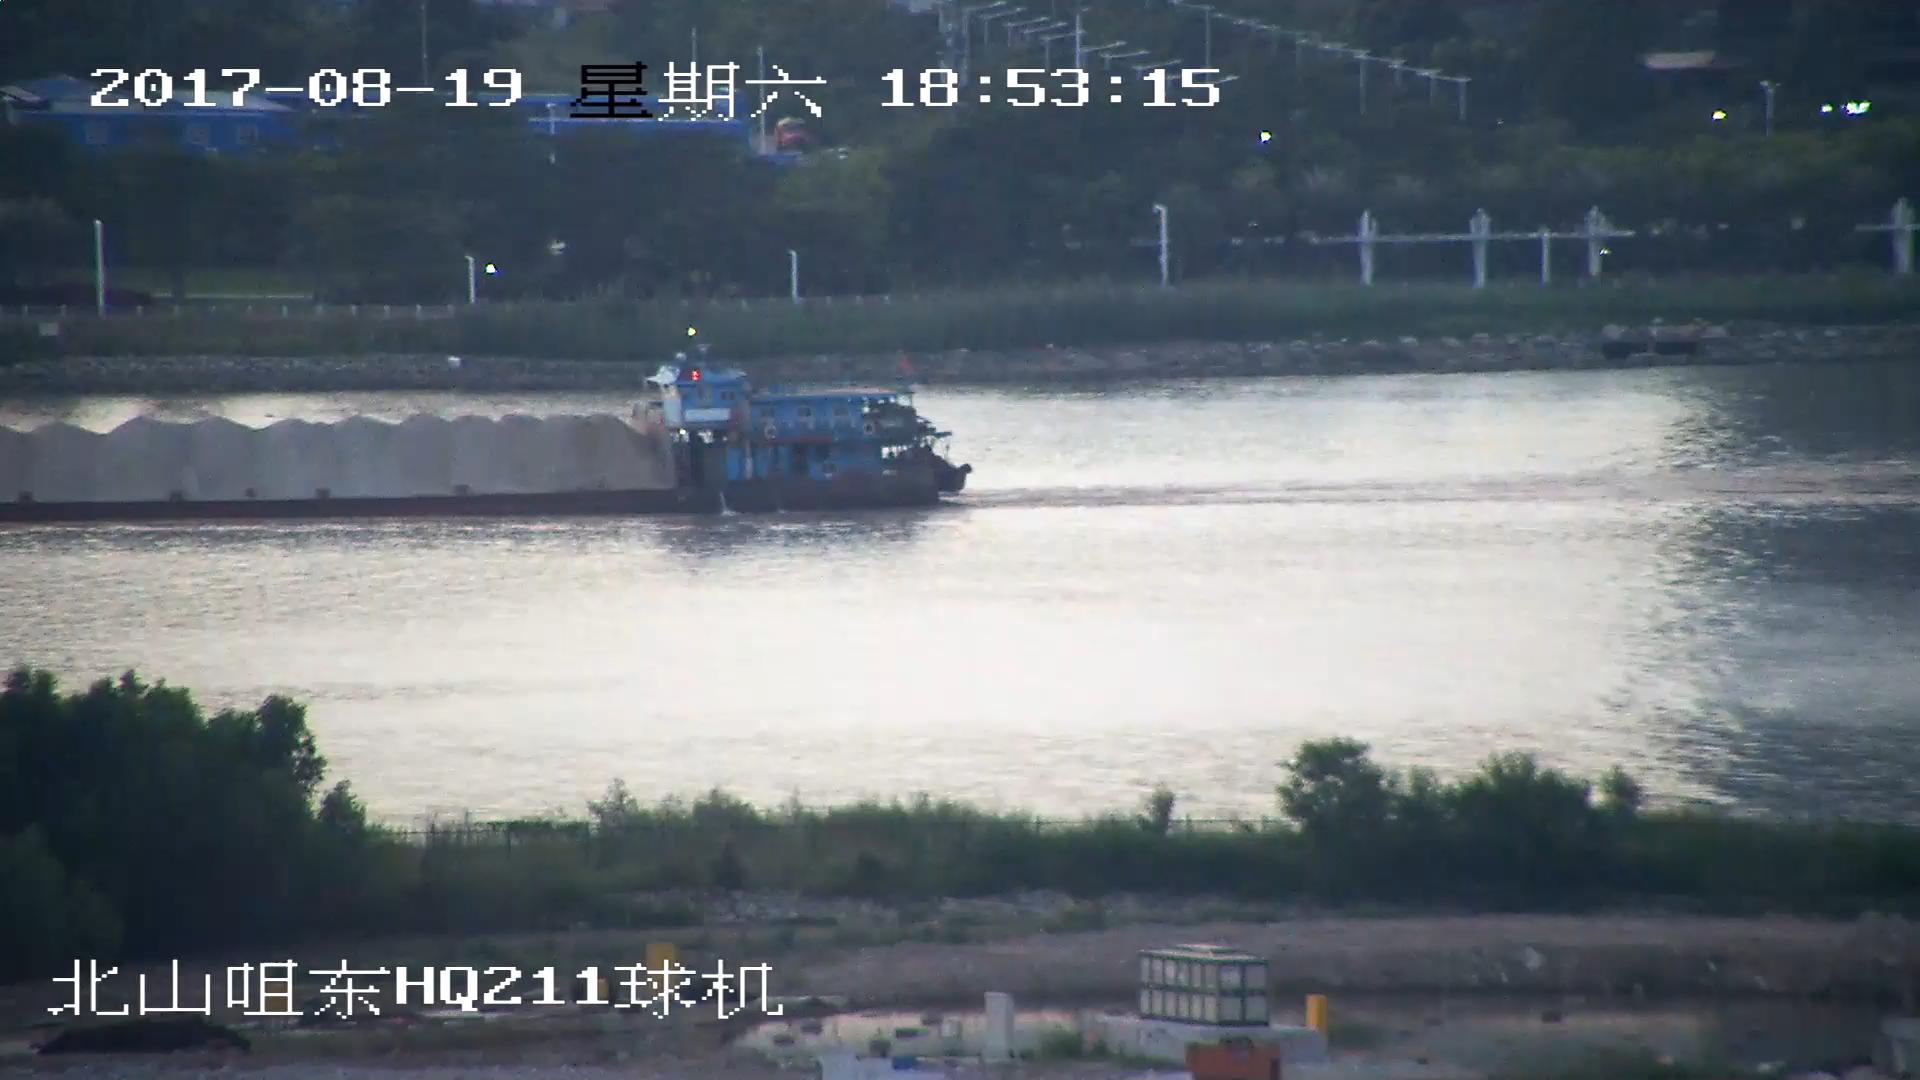ore carrier: (1, 325, 974, 514)
